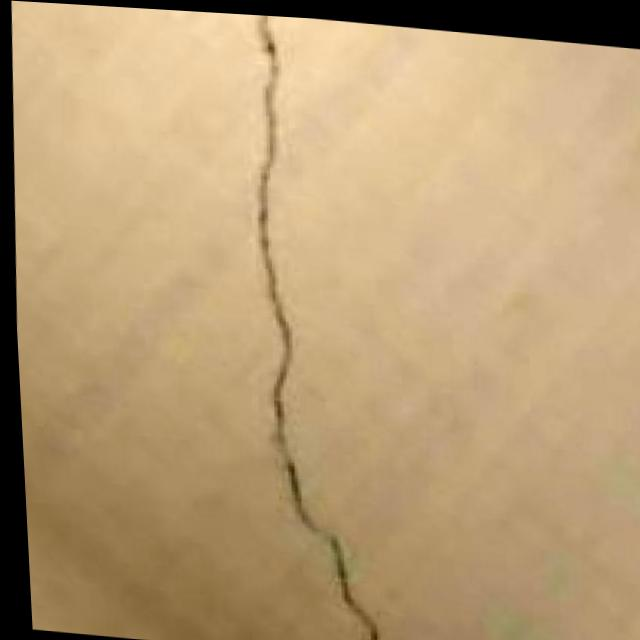Crack: (197, 9, 417, 640)
